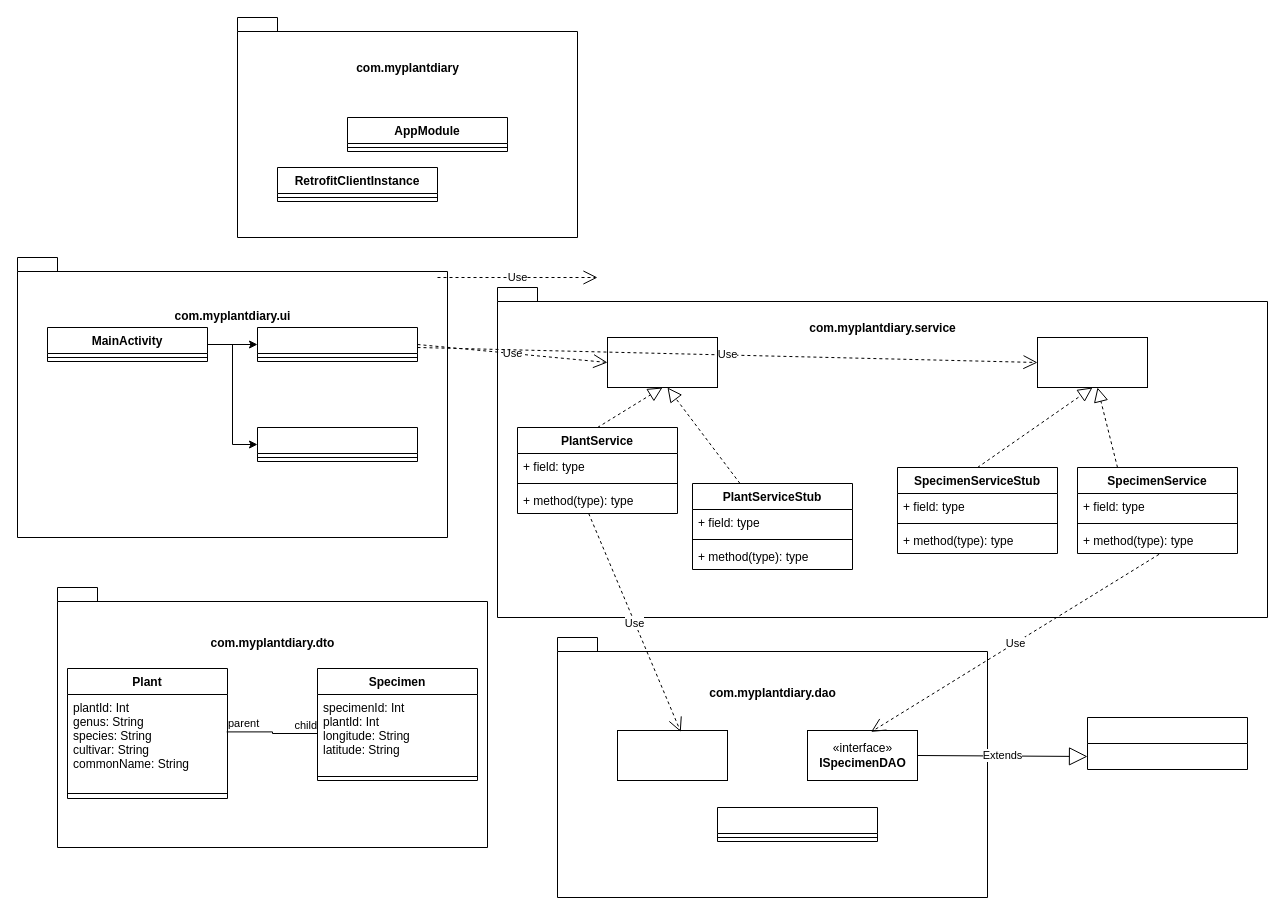
Image size: 1285x915. Some labels were removed from this diagram. The shapes that lost their labels are listed below. From the top down, each one's centre as x and y in pixels, then its label:
At pixel 337 344: "ViewModel".
At pixel 662 362: "«interface» IPlantService".
At pixel 1092 362: "«interface» ISpecimenService".
At pixel 337 444: "ApplicationViewModel".
At pixel 672 755: "«interface» IPlantDAO".
At pixel 1167 743: "RoomDatabase".
At pixel 797 824: "SpecimenDatabase".
